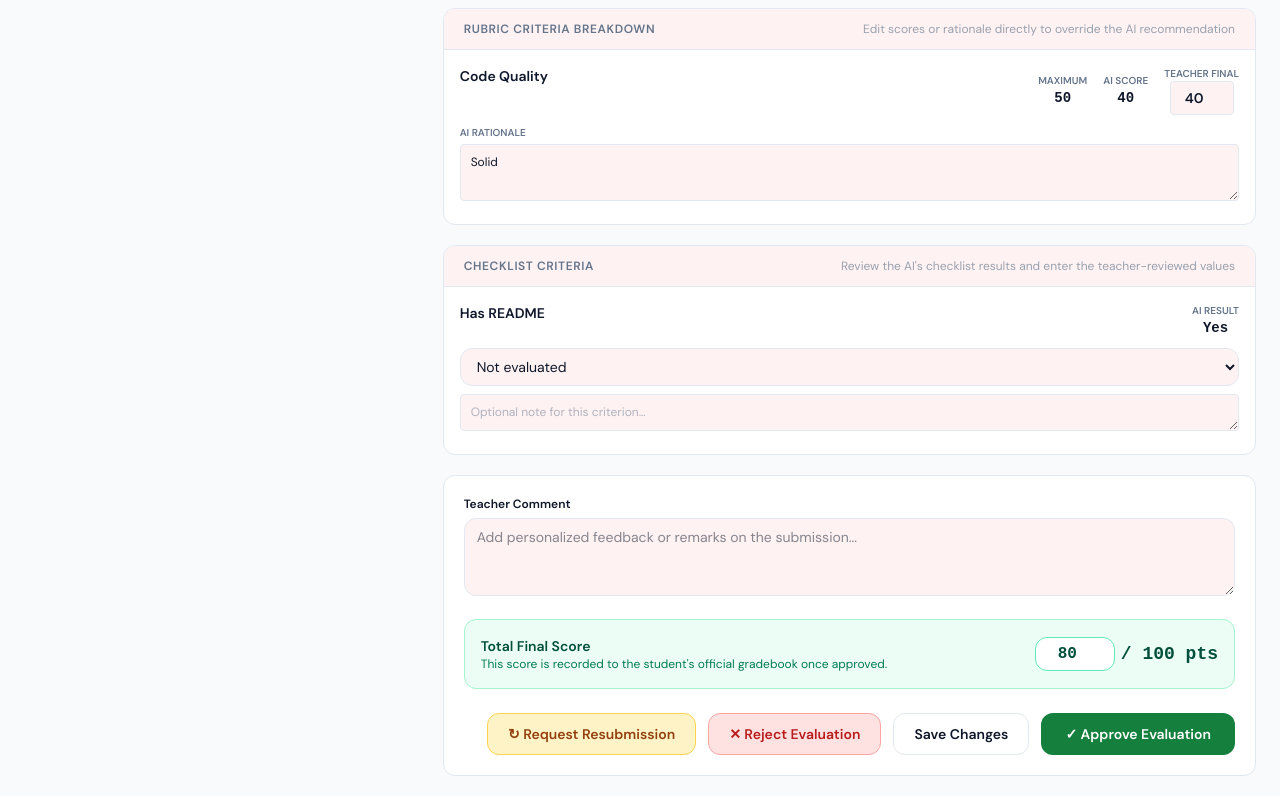
TeacherAIEvaluation › shows an error message when saving fails
This screenshot has width=1280, height=796.
(page scrolled)
Click the button "Save Changes". click: click(961, 734)
box: [893,713,1029,755]
(page scrolled)
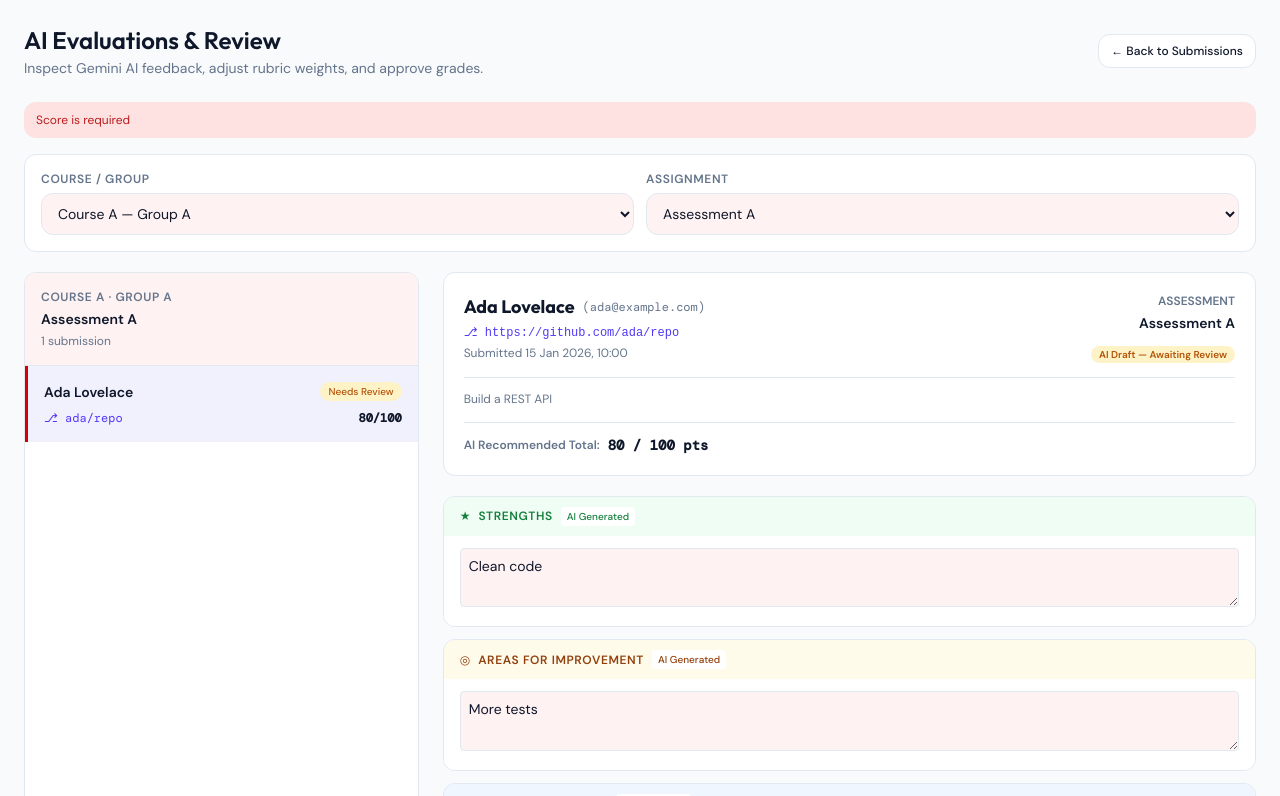
Now the text "Score is required" is shown, box [24,102,1256,138]
